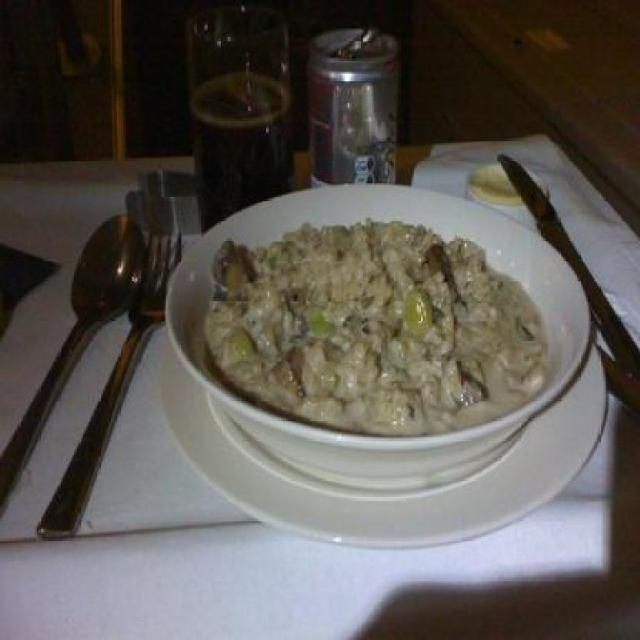Risotto: (217, 218, 546, 442)
